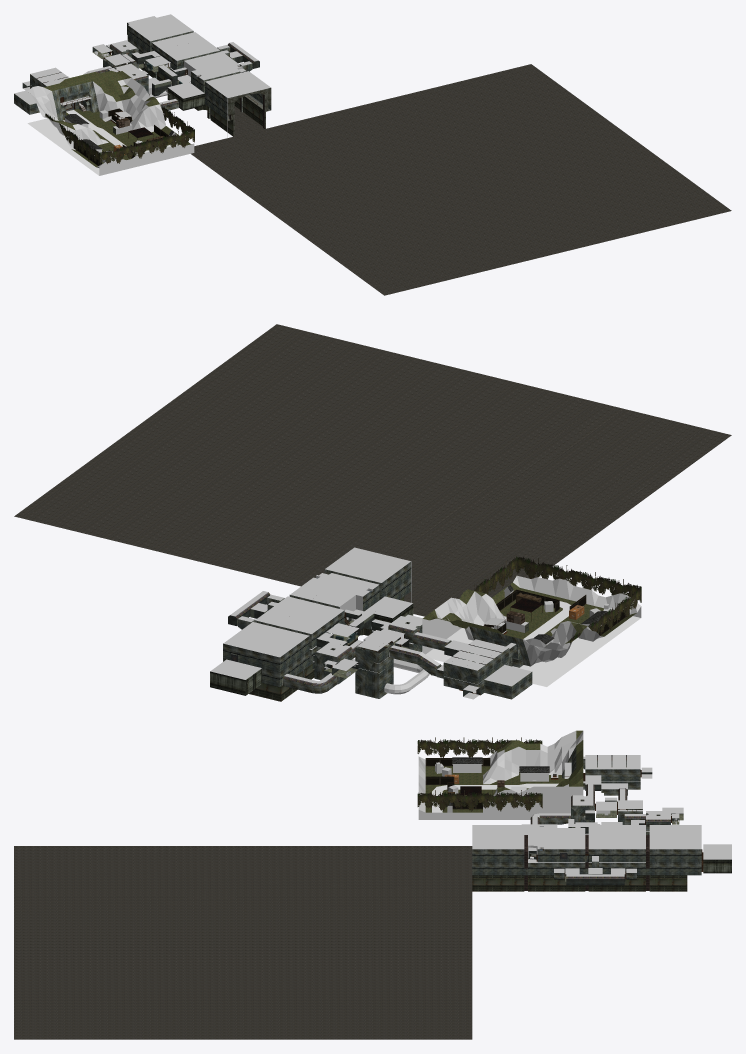
The model's file is dasBoot.fbx.
The picture shows the model from 3 angles, top to bottom: view 1: azimuth 30°, elevation 25°; view 2: azimuth 150°, elevation 25°; view 3: azimuth 270°, elevation 25°; orthographic projection. The views are drawn at different scales.
Visible parts, largest first — view 1: DasBoot; view 2: DasBoot; view 3: DasBoot.
Boxes of the visible parts, x1,y1,x2,y2 form: DasBoot: (14,14,731,295); DasBoot: (14,324,731,701); DasBoot: (14,730,731,1039).
Bounding box in the file's own units: 22546 × 26947 × 2419.
